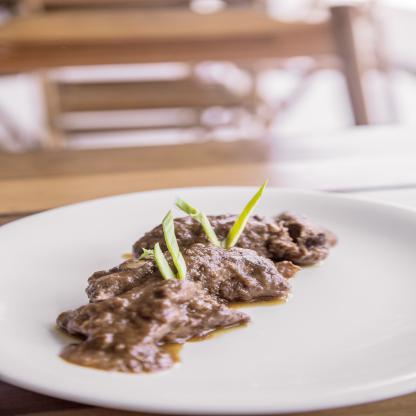Carne: (50, 278, 251, 353), (91, 242, 286, 308), (138, 212, 328, 274)
